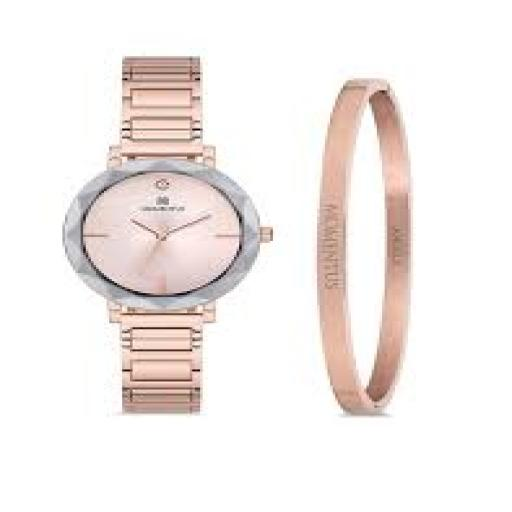KolSaati: (57, 33, 273, 437)
